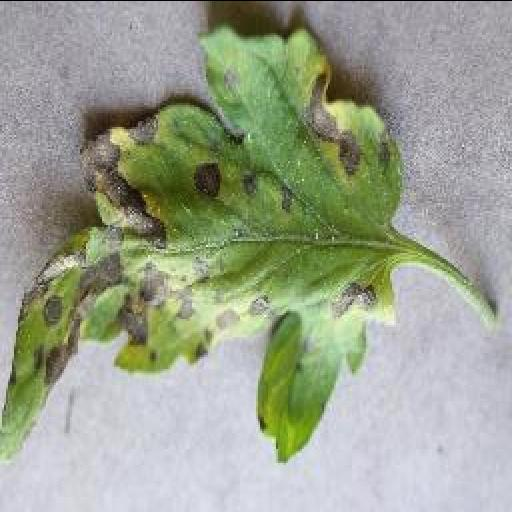Early Blight: (0, 20, 410, 469)
